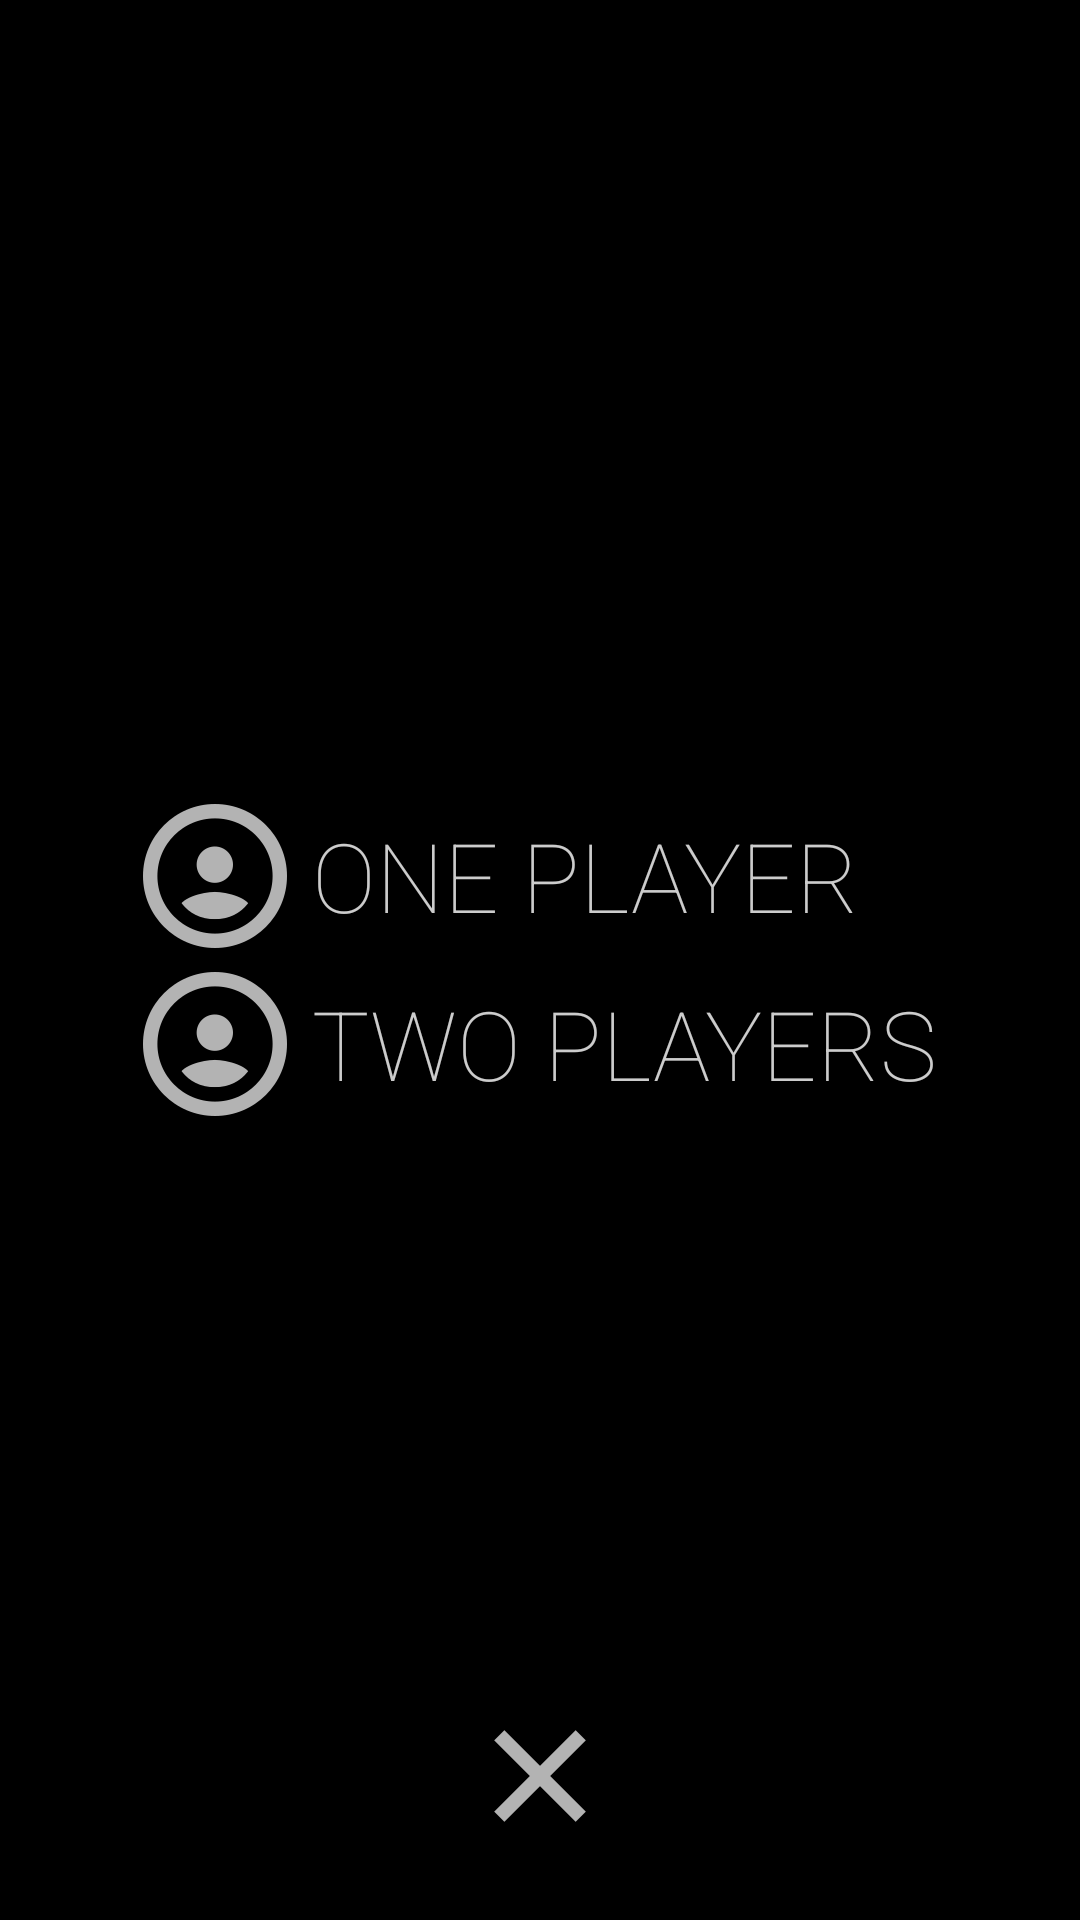

Icons on this 1080px x 1920px Android screen, each with the point to tap as (x,y):
exit: (540,1776)
single player: (215,876), (215,1044)
